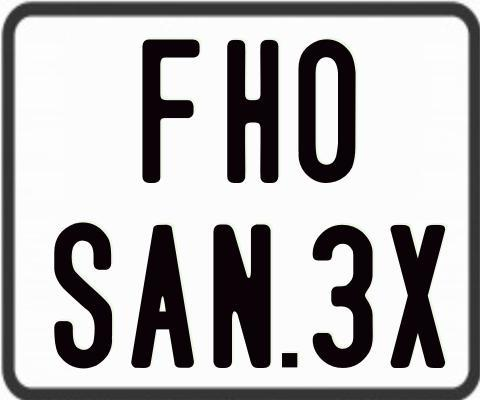0: (298, 38, 356, 185)
3: (313, 222, 374, 371)
A: (131, 224, 196, 373)
F: (139, 37, 199, 182)
H: (226, 39, 281, 184)
N: (211, 224, 275, 371)
S: (52, 220, 111, 368)
X: (389, 223, 447, 366)
